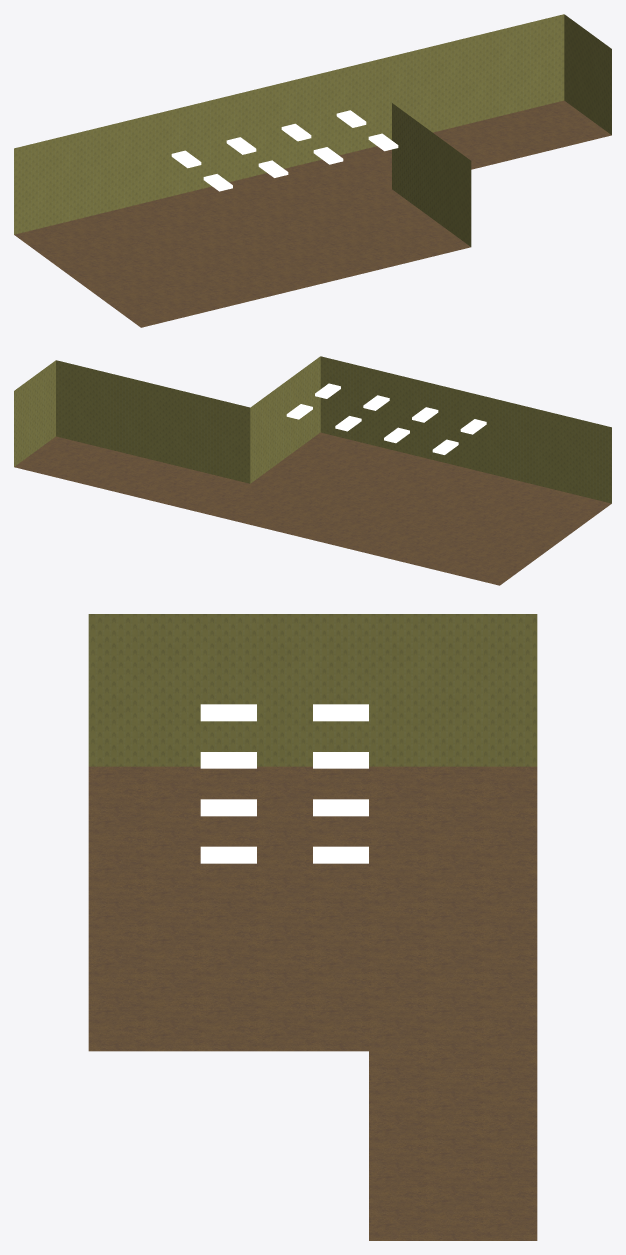
Rendered from demo.glb.
The picture shows the model from 3 angles, top to bottom: view 1: azimuth 30°, elevation 25°; view 2: azimuth 150°, elevation 25°; view 3: azimuth 270°, elevation 25°; orthographic projection. The views are drawn at different scales.
Parts seen in each view (by area): view 1: walls, floor; view 2: walls, floor; view 3: floor, walls, light box.005, light box.006, light box.007, light box.001, light box.002, light box.003, light box.004, light box.
Boxes of the visible parts, x1,y1,x2,y2 form: walls: [14, 14, 611, 246]; floor: [14, 100, 611, 327]; walls: [14, 356, 611, 503]; floor: [14, 432, 611, 585]; floor: [88, 766, 537, 1240]; walls: [88, 614, 537, 766]; light box.005: [200, 799, 256, 816]; light box.006: [200, 846, 256, 863]; light box.007: [200, 704, 256, 721]; light box.001: [313, 799, 368, 816]; light box.002: [313, 846, 368, 863]; light box.003: [313, 704, 368, 721]; light box.004: [200, 752, 256, 768]; light box: [313, 752, 368, 768].
Bounding box in the file's own units: 20 × 3.09 × 8.
Materials: 4 (3 with a texture image).
